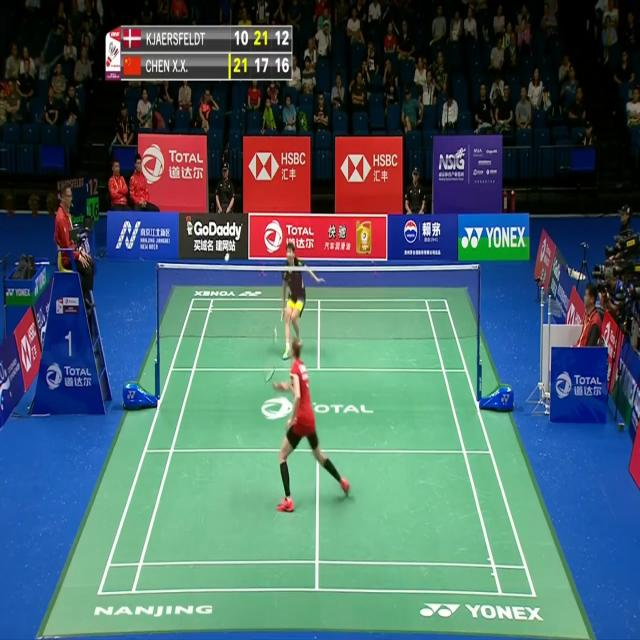Player1: (272, 334, 352, 518)
Player2: (279, 241, 327, 368)
